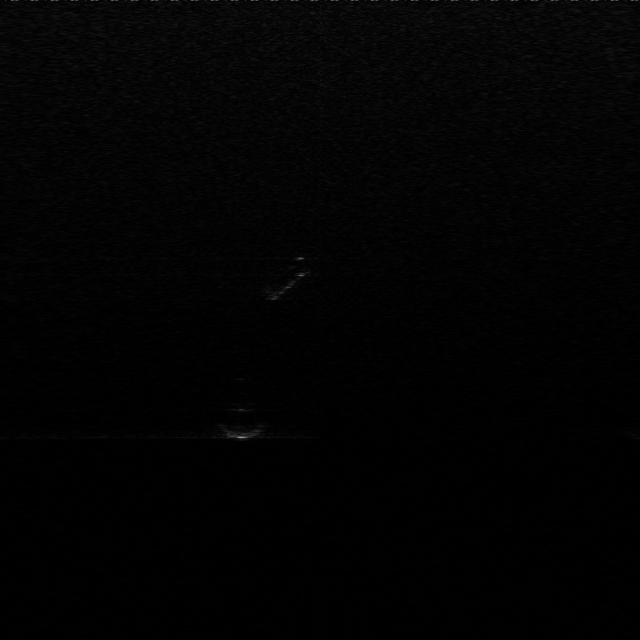ball: (212, 396, 273, 442)
tyre: (254, 255, 318, 304)
